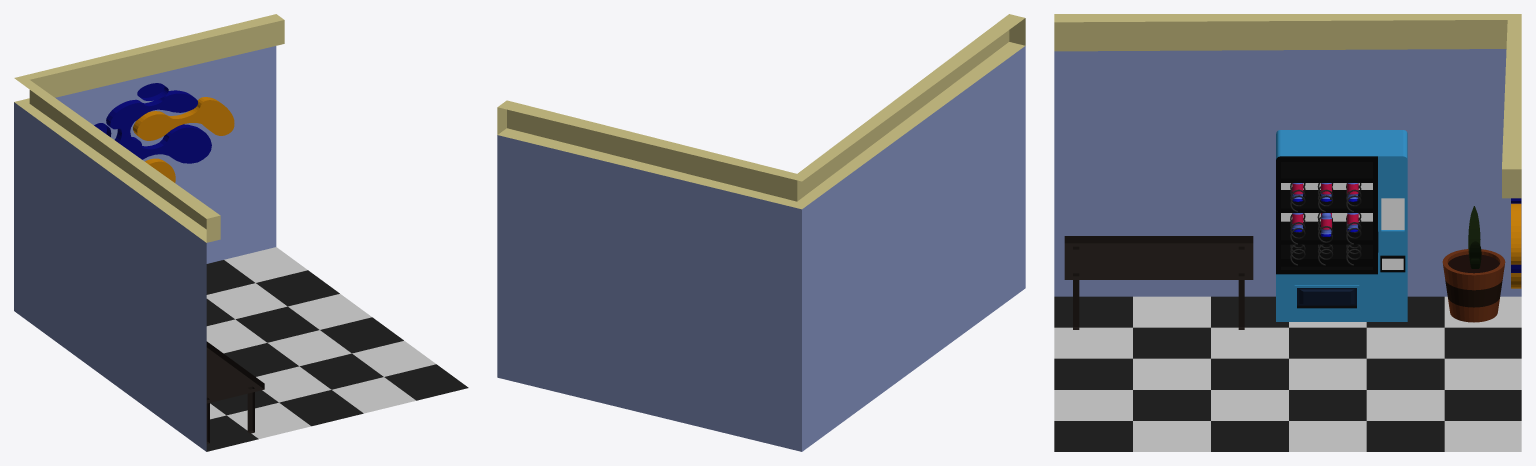
Rendered from AnimatedObject0015.obj.
The picture shows the model from 3 angles, left to right: view 1: azimuth 30°, elevation 25°; view 2: azimuth 150°, elevation 25°; view 3: azimuth 270°, elevation 25°; orthographic projection. The views are drawn at different scales.
Parts seen in each view (by area): view 1: ruangan_Cube.003, meja_Cube.004, logo_Circle.005, logo.001_Circle.001, logo.005_Circle.002; view 2: ruangan_Cube.003; view 3: ruangan_Cube.003, vending_machine_Cube.001, meja_Cube.004, pot_bunga_Cylinder, per_second\_Spiral.010, Plane.007, logo_Circle.005.
Part boxes in pixels (x1=…): ruangan_Cube.003: x1=14, y1=14, x2=468, y2=451; meja_Cube.004: x1=206, y1=341, x2=264, y2=444; logo_Circle.005: x1=133, y1=97, x2=234, y2=140; logo.001_Circle.001: x1=115, y1=124, x2=211, y2=163; logo.005_Circle.002: x1=106, y1=90, x2=197, y2=132; ruangan_Cube.003: x1=497, y1=14, x2=1025, y2=451; ruangan_Cube.003: x1=1054, y1=14, x2=1521, y2=451; vending_machine_Cube.001: x1=1276, y1=130, x2=1407, y2=321; meja_Cube.004: x1=1064, y1=236, x2=1253, y2=329; pot_bunga_Cylinder: x1=1442, y1=249, x2=1505, y2=322; per_second\_Spiral.010: x1=1290, y1=183, x2=1361, y2=265; Plane.007: x1=1468, y1=206, x2=1481, y2=268; logo_Circle.005: x1=1511, y1=203, x2=1521, y2=264.
Bounding box in the file's own units: 11.73 × 9.95 × 14.9.
